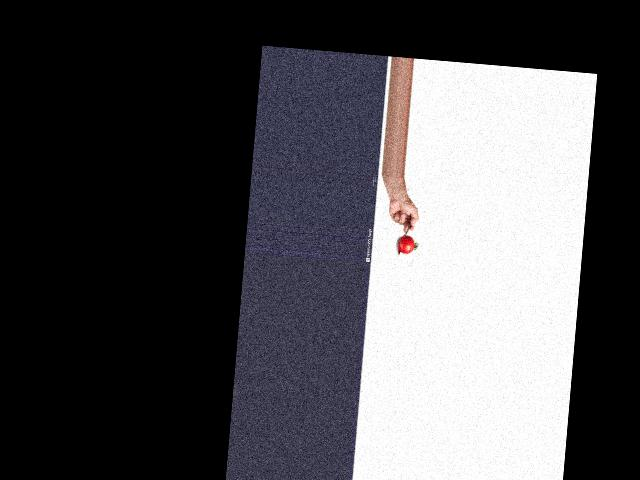tomato: (397, 234, 415, 254)
